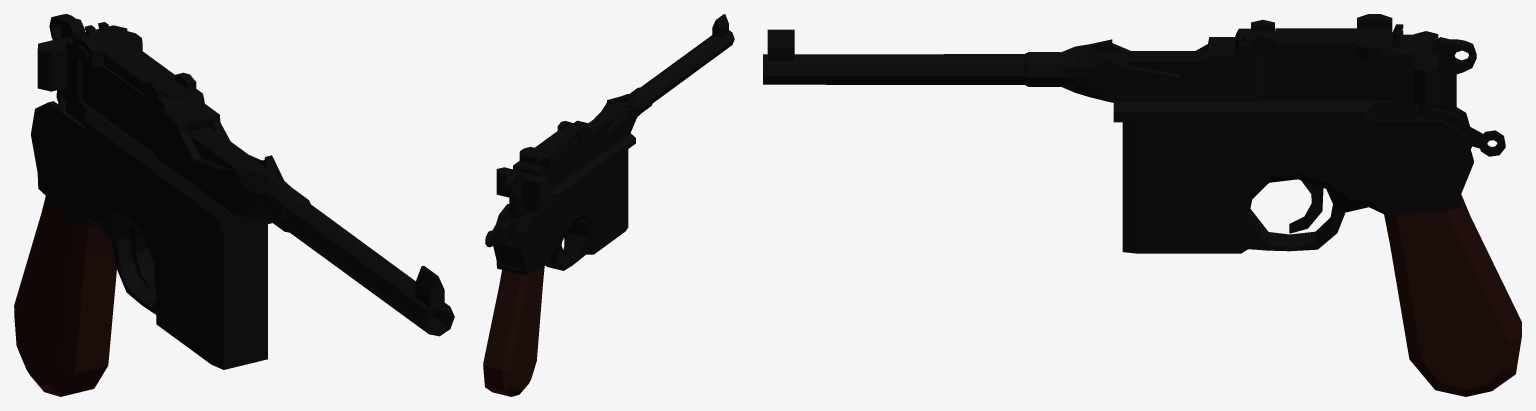
The model's file is Mauser_C96.fbx.
3 renders of one model, left to right at view 1: azimuth 30°, elevation 25°; view 2: azimuth 150°, elevation 25°; view 3: azimuth 270°, elevation 25°, orthographic. The views are drawn at different scales.
Visible parts, largest first — view 1: Mauser_C96; view 2: Mauser_C96; view 3: Mauser_C96.
Part boxes in pixels (<box>): Mauser_C96: <box>14,14,454,396</box>; Mauser_C96: <box>483,14,734,396</box>; Mauser_C96: <box>763,14,1521,396</box>.
Bounding box in the file's own units: 3.58 × 14.94 × 28.32.
